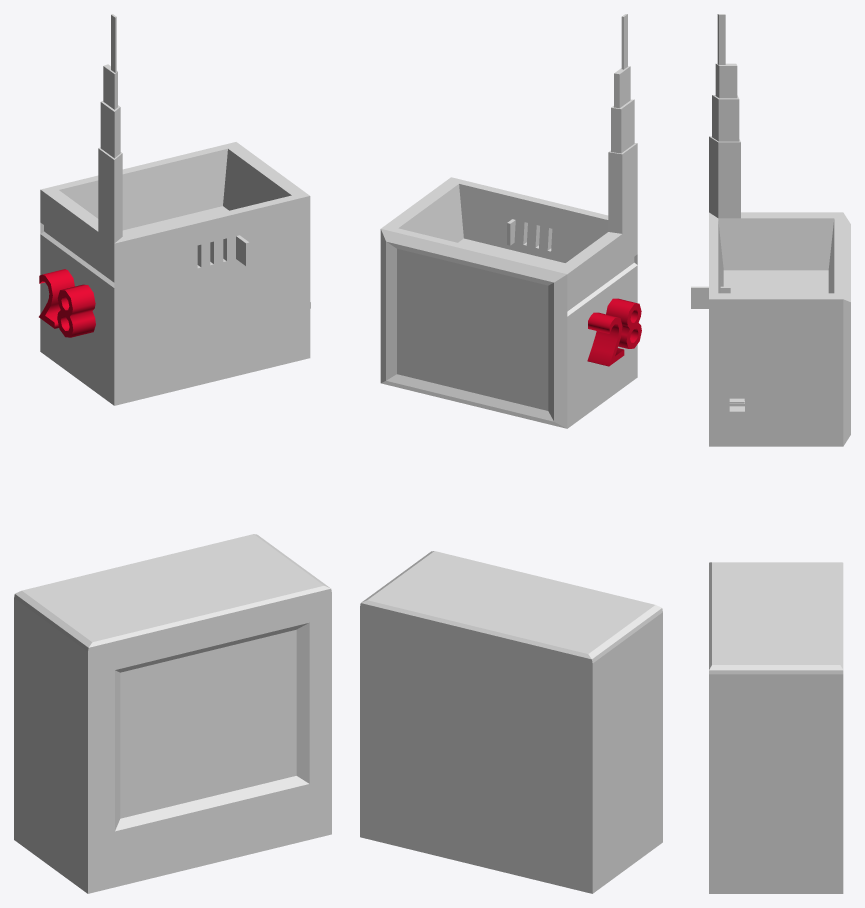
The model's file is computers.fbx.
The picture shows the model from 3 angles, left to right: view 1: azimuth 30°, elevation 25°; view 2: azimuth 150°, elevation 25°; view 3: azimuth 270°, elevation 25°; orthographic projection. The views are drawn at different scales.
Visible parts, largest first — view 1: Cube, Cube.001, BLYAT; view 2: Cube, Cube.001, BLYAT; view 3: Cube, Cube.001, Cube.002.
Part boxes in pixels (bbox=[...]): Cube: bbox=[14, 534, 331, 893]; Cube.001: bbox=[40, 14, 310, 405]; BLYAT: bbox=[39, 269, 95, 337]; Cube: bbox=[360, 551, 662, 893]; Cube.001: bbox=[380, 14, 637, 428]; BLYAT: bbox=[587, 298, 641, 366]; Cube: bbox=[709, 562, 843, 893]; Cube.001: bbox=[709, 14, 850, 446]; Cube.002: bbox=[691, 286, 730, 308].
Size of the model in its own units: 381 by 1292 by 238.
